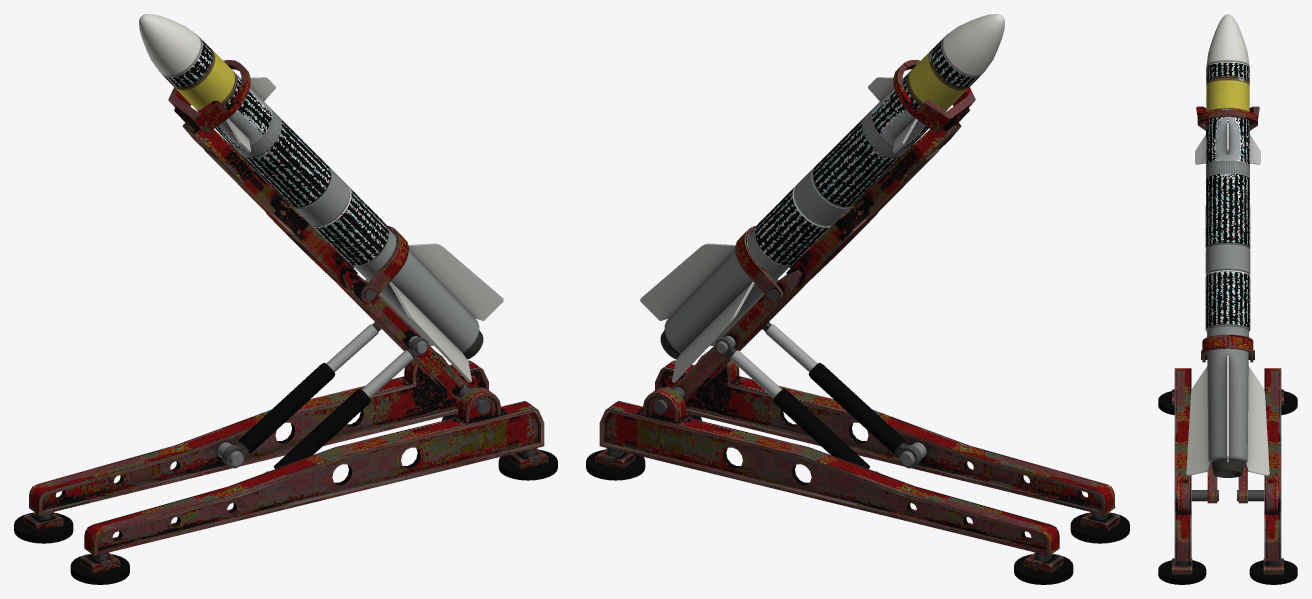
3 renders of one model, left to right at view 1: azimuth 30°, elevation 25°; view 2: azimuth 150°, elevation 25°; view 3: azimuth 270°, elevation 25°, orthographic. The views are drawn at different scales.
Parts seen in each view (by area): view 1: body0_model0_lod0_mesh0, body0_model0_lod0_mesh1; view 2: body0_model0_lod0_mesh0, body0_model0_lod0_mesh1; view 3: body0_model0_lod0_mesh1, body0_model0_lod0_mesh0.
Boxes of the visible parts, x1,y1,x2,y2 form: body0_model0_lod0_mesh0: [14, 60, 557, 584]; body0_model0_lod0_mesh1: [139, 14, 503, 382]; body0_model0_lod0_mesh0: [586, 59, 1129, 584]; body0_model0_lod0_mesh1: [640, 14, 1004, 382]; body0_model0_lod0_mesh1: [1186, 14, 1269, 477]; body0_model0_lod0_mesh0: [1158, 106, 1297, 584].
Bounding box in the file's own units: 433 × 448 × 135.
2 materials, 2 textured.
